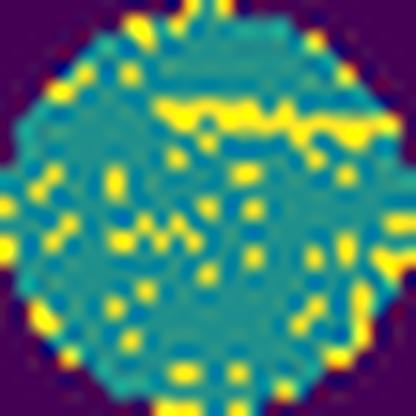Scratch: (149, 92, 401, 176)
